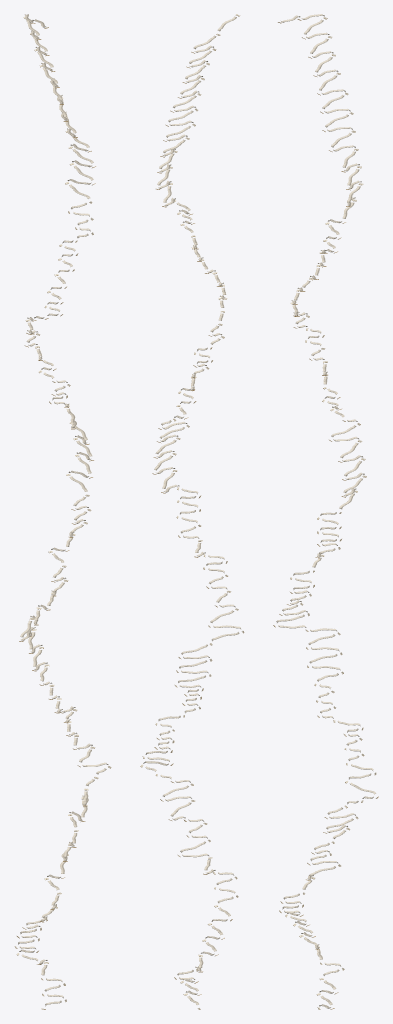
The model's file is C-route-v027-02.glb.
The picture shows the model from 3 angles, left to right: view 1: azimuth 30°, elevation 25°; view 2: azimuth 150°, elevation 25°; view 3: azimuth 330°, elevation 25°; orthographic projection.
Size of the model in its own units: 0.5949 by 5.78 by 0.4161.
Materials: 5 (1 with a texture image).
